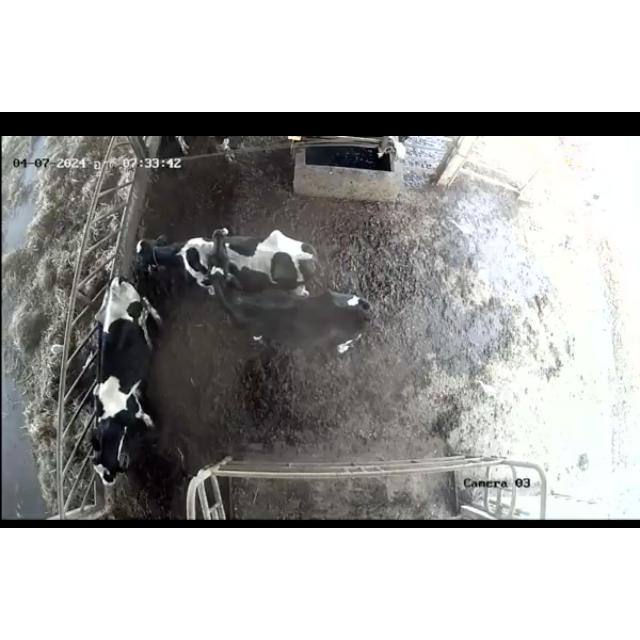propping: (188, 222, 255, 312)
